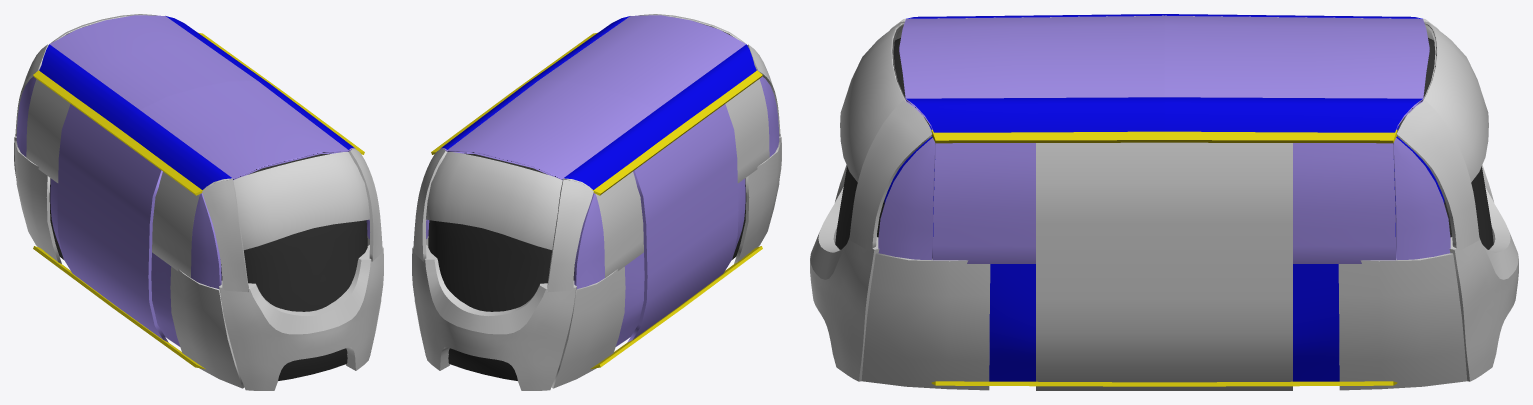
Rendered from Azur.fbx.
The picture shows the model from 3 angles, left to right: view 1: azimuth 30°, elevation 25°; view 2: azimuth 150°, elevation 25°; view 3: azimuth 270°, elevation 25°; orthographic projection. The views are drawn at different scales.
Visible parts, largest first — view 1: PM3D_Cube3D1_2.005; view 2: PM3D_Cube3D1_2.005; view 3: PM3D_Cube3D1_2.005.
Part boxes in pixels (left/top/right/bottom): PM3D_Cube3D1_2.005: left=14, top=14, right=383, bottom=390; PM3D_Cube3D1_2.005: left=412, top=14, right=781, bottom=390; PM3D_Cube3D1_2.005: left=810, top=14, right=1518, bottom=390.
Size of the model in its own units: 512 by 531 by 1159.
